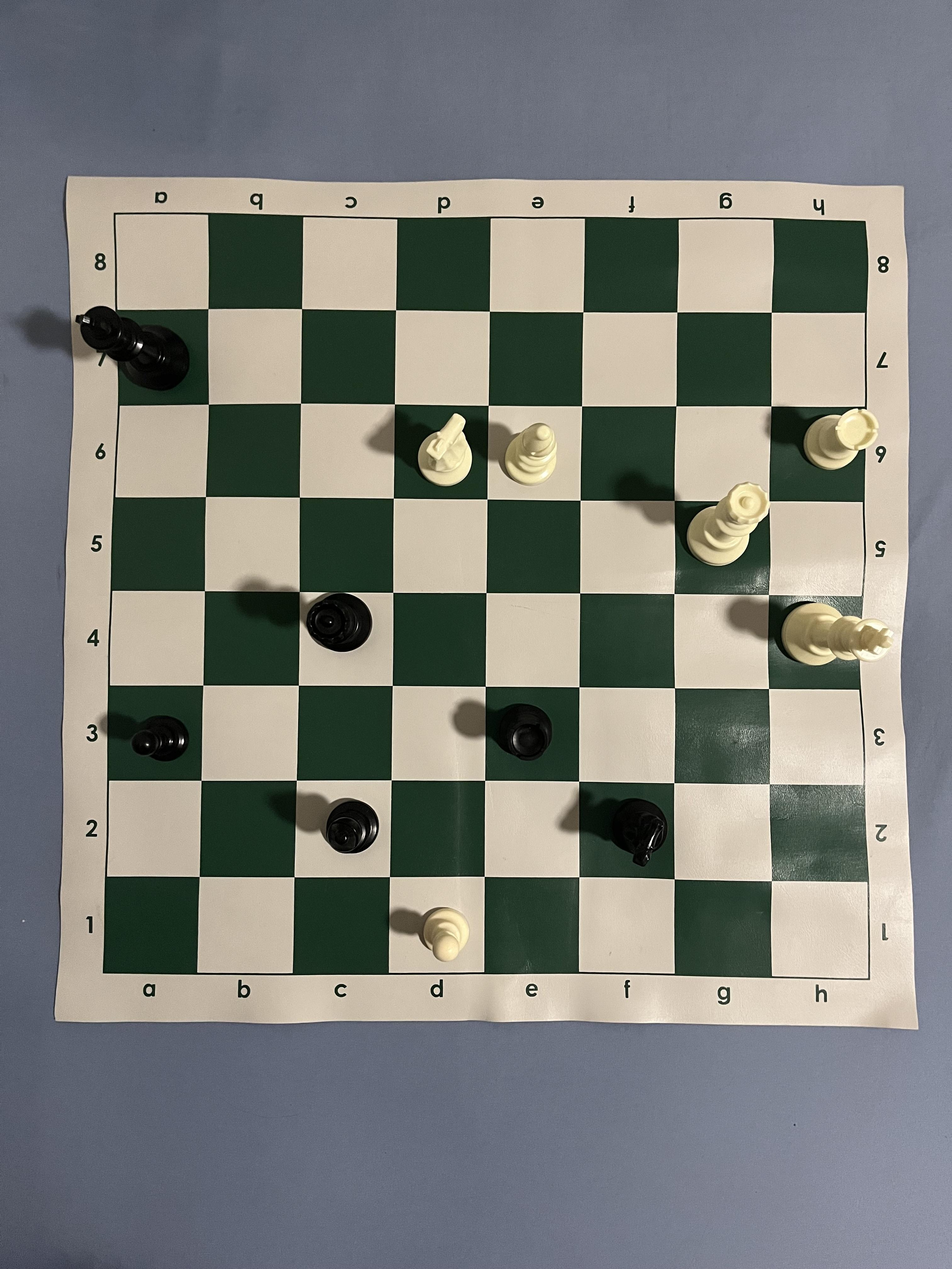black_bishop: (325, 798, 379, 856)
black_king: (76, 306, 190, 391)
black_knight: (611, 798, 669, 867)
black_pawn: (131, 716, 189, 762)
black_queen: (306, 592, 374, 653)
black_rook: (496, 703, 552, 761)
white_bishop: (504, 422, 558, 486)
white_king: (781, 601, 895, 667)
white_knight: (417, 412, 473, 488)
white_pawn: (422, 906, 471, 963)
white_queen: (686, 482, 770, 567)
white_rook: (803, 408, 880, 470)
